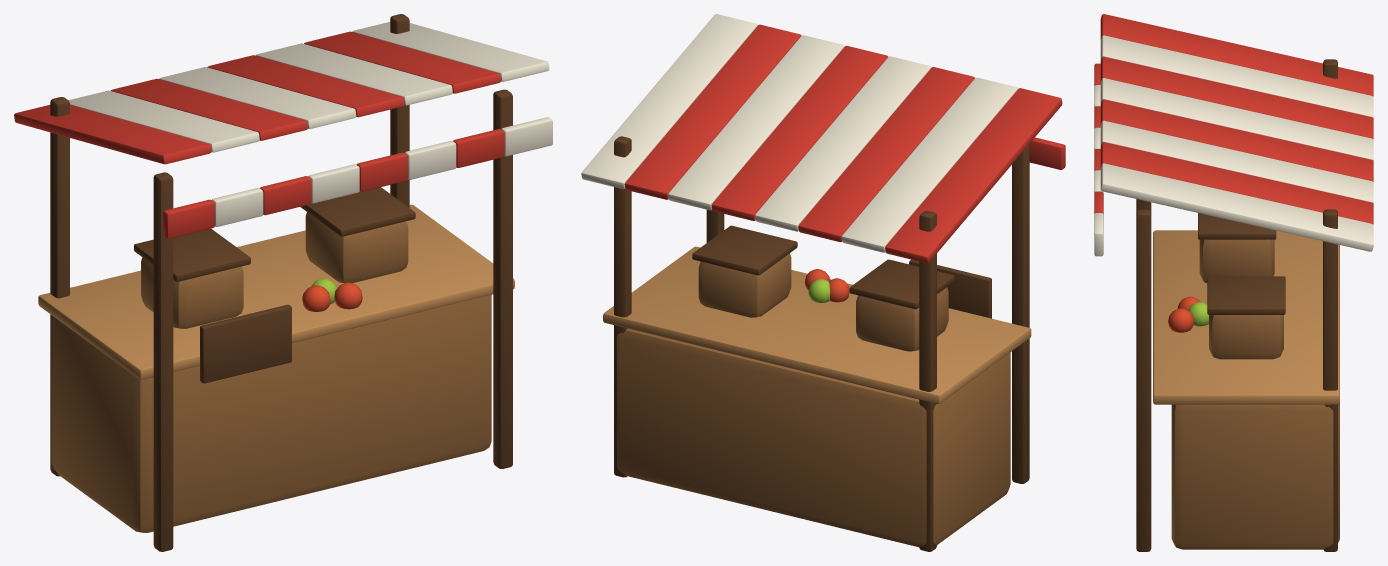
The model's file is MarketStall.glb.
3 renders of one model, left to right at view 1: azimuth 30°, elevation 25°; view 2: azimuth 150°, elevation 25°; view 3: azimuth 270°, elevation 25°, orthographic. The views are drawn at different scales.
Parts seen in each view (by area): view 1: MarketStall; view 2: MarketStall; view 3: MarketStall.
Boxes of the visible parts, box(x1,y1,x2,y2) form: MarketStall: box(14, 14, 552, 551); MarketStall: box(581, 14, 1065, 551); MarketStall: box(1094, 14, 1373, 551).
Bounding box in the file's own units: 2.16 × 2.22 × 1.5.
